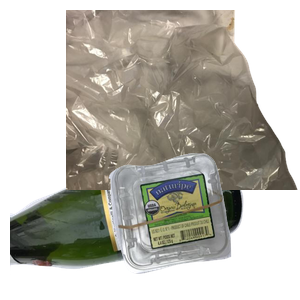glass: (10, 154, 246, 300)
metal: (84, 53, 279, 202)
plastic: (106, 151, 300, 300)
trash: (66, 10, 300, 190)
